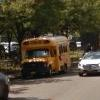Bus: (15, 32, 72, 78)
